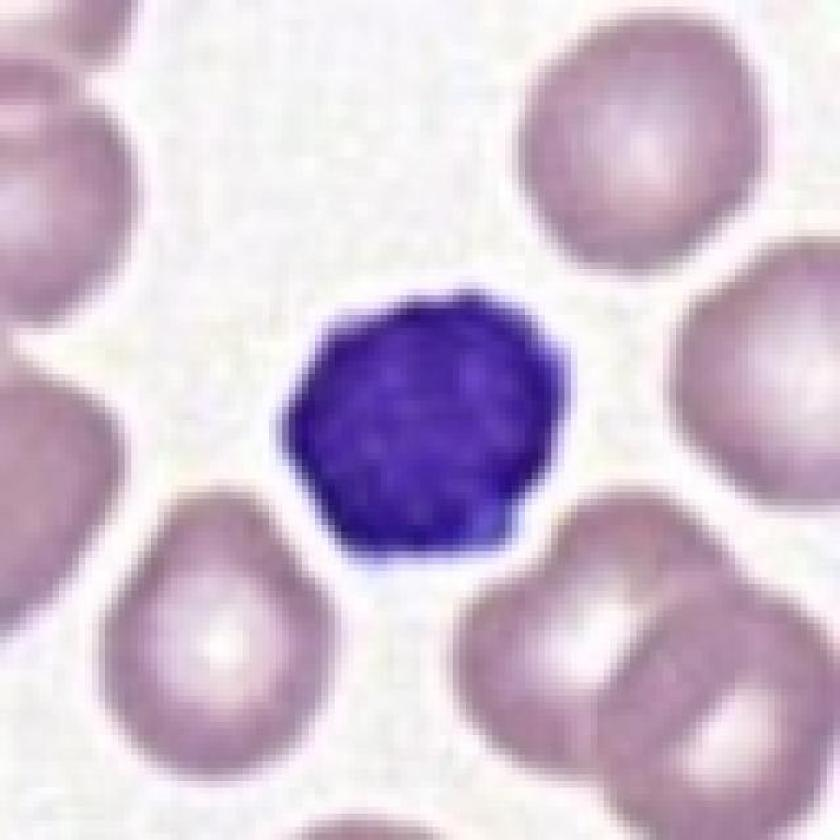lymphocyte: (272, 277, 578, 569)
